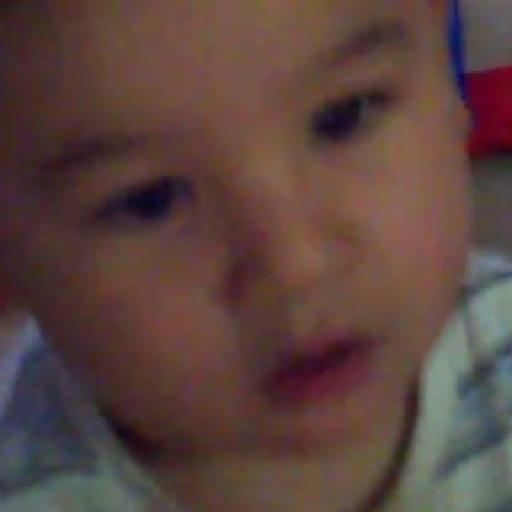Autism: (16, 15, 480, 474)
